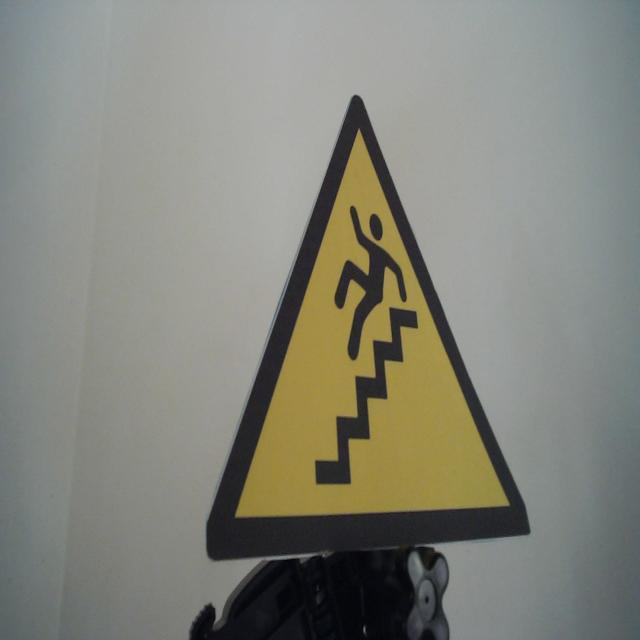stairs: (205, 93, 533, 565)
